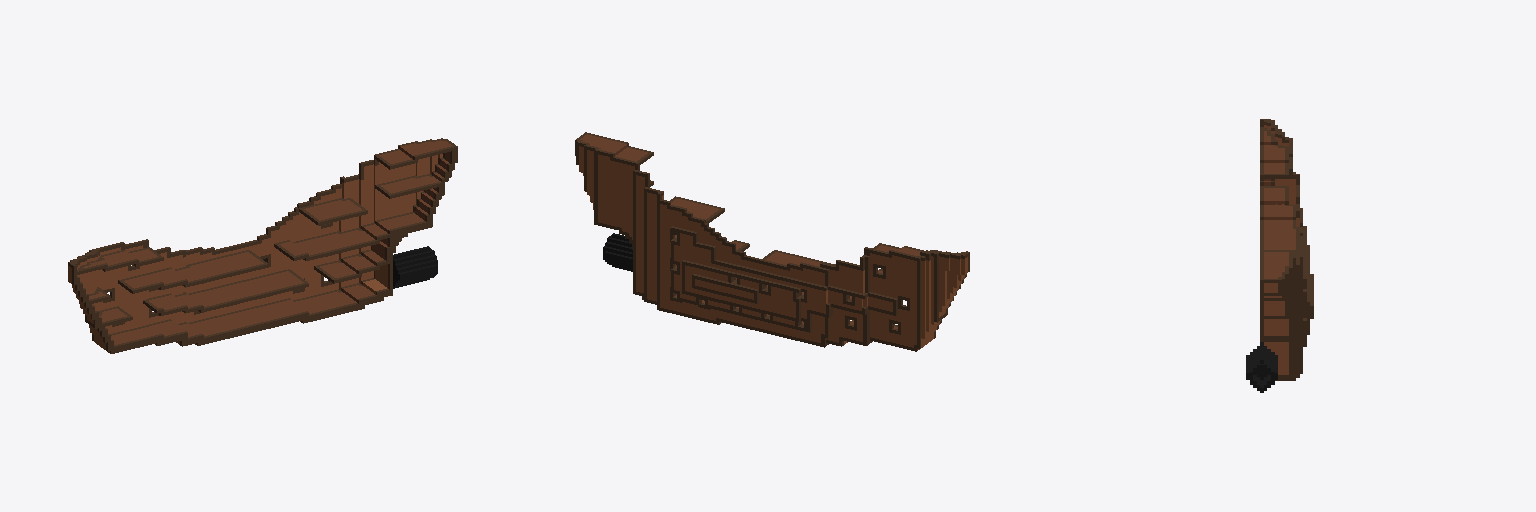
The picture shows the model from 3 angles: view 1: azimuth 30°, elevation 25°; view 2: azimuth 150°, elevation 25°; view 3: azimuth 270°, elevation 25°; orthographic projection.
Bounding box in the file's own units: 124 × 43 × 19.
Materials: 1 (1 with a texture image).